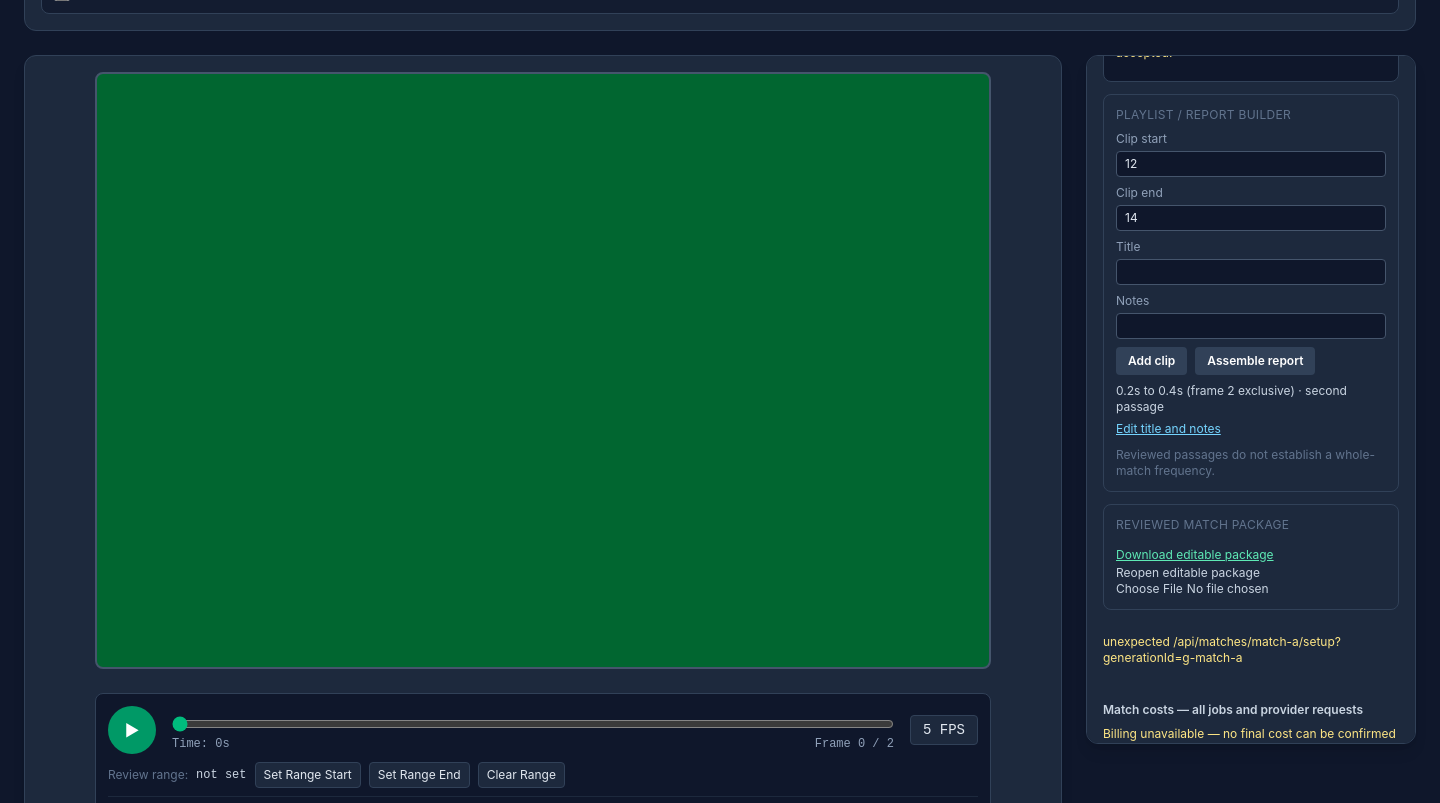
Test: App match workspace loading › opens a stored playlist clip on the review source interval
The width and height of the screenshot is (1440, 803).
(page scrolled)
Expected: the slider named "Timeline scrubber" holds "0", [172,716,894,732]
Click the button with aria-label "open 0.2s to 0.4s".
click(1251, 399)  # box [1116,383,1386,415]
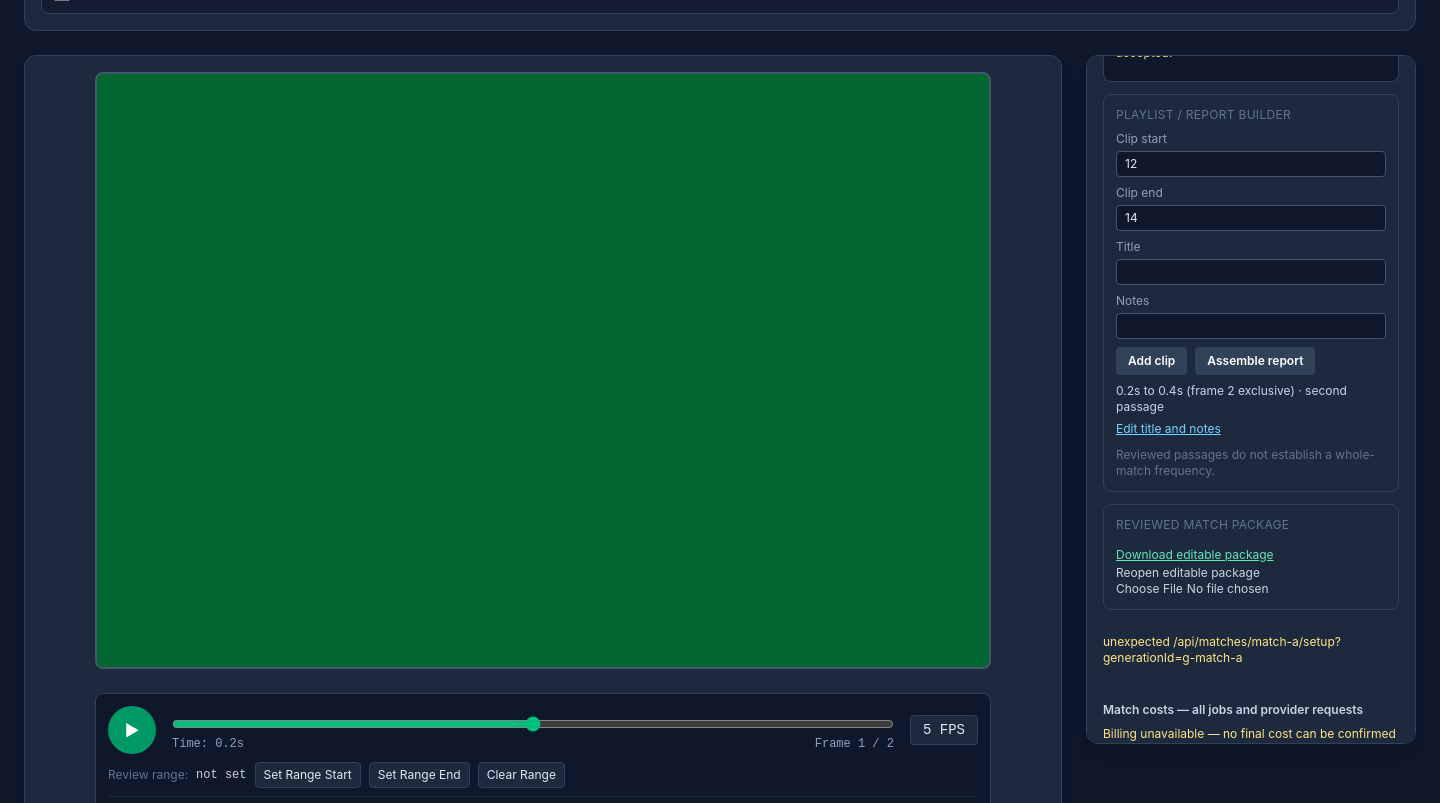
Now the slider named "Timeline scrubber" holds "1", box [172,716,894,732]
